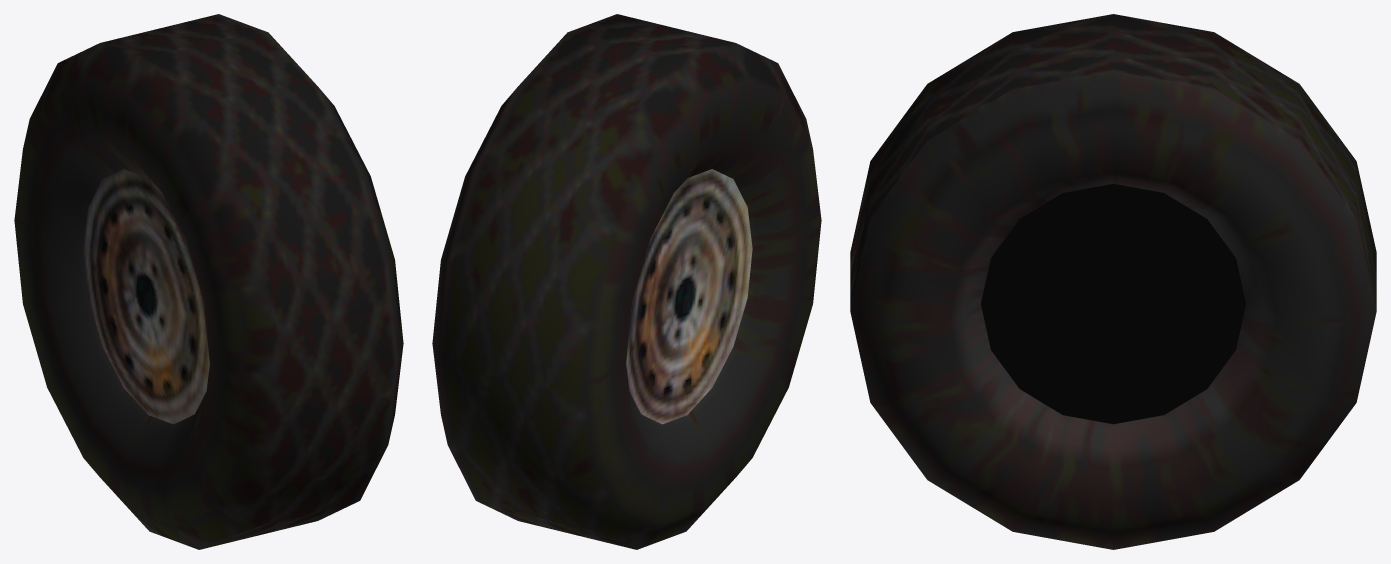
The model's file is WheelOld.FBX.
The picture shows the model from 3 angles, left to right: view 1: azimuth 30°, elevation 25°; view 2: azimuth 150°, elevation 25°; view 3: azimuth 270°, elevation 25°; orthographic projection.
Parts seen in each view (by area): view 1: Wheel_Old; view 2: Wheel_Old; view 3: Wheel_Old.
Boxes of the visible parts, x1,y1,x2,y2 form: Wheel_Old: [14, 14, 403, 549]; Wheel_Old: [432, 14, 821, 549]; Wheel_Old: [850, 14, 1376, 549].
Size of the model in its own units: 1.33 by 3.61 by 3.61.
Materials: 1 (1 with a texture image).
